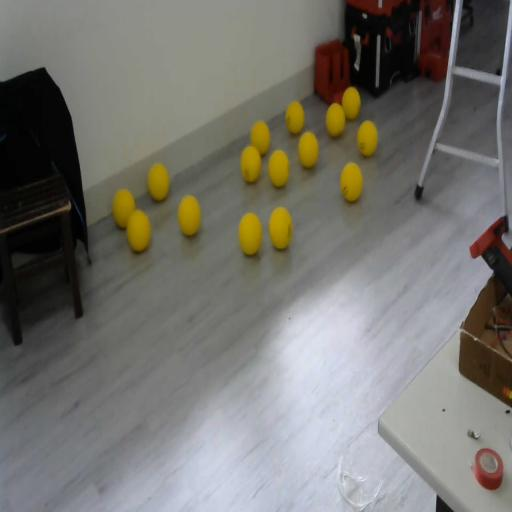FUEL: (125, 208, 152, 253), (237, 210, 263, 256), (268, 206, 293, 250), (177, 193, 201, 237), (340, 162, 363, 202), (268, 148, 290, 188), (240, 144, 262, 184), (148, 163, 170, 202), (297, 131, 319, 168), (250, 118, 271, 156), (357, 119, 378, 156), (326, 101, 346, 137), (341, 85, 361, 120), (285, 100, 305, 134)
